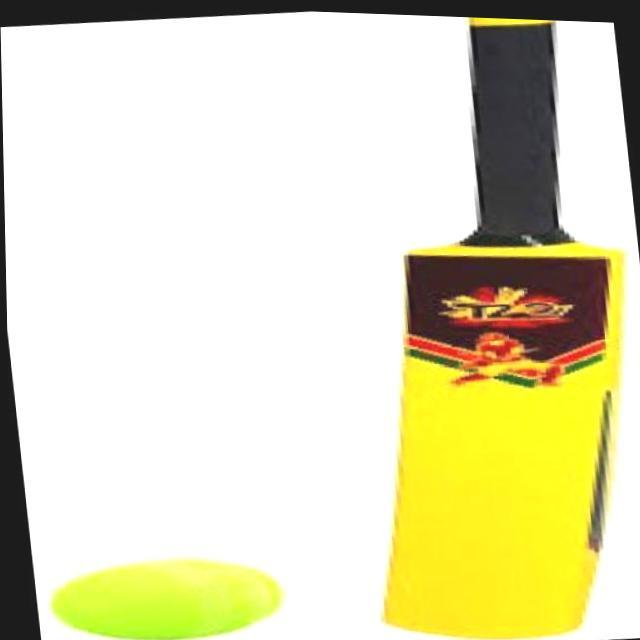-: (46, 537, 284, 640)
